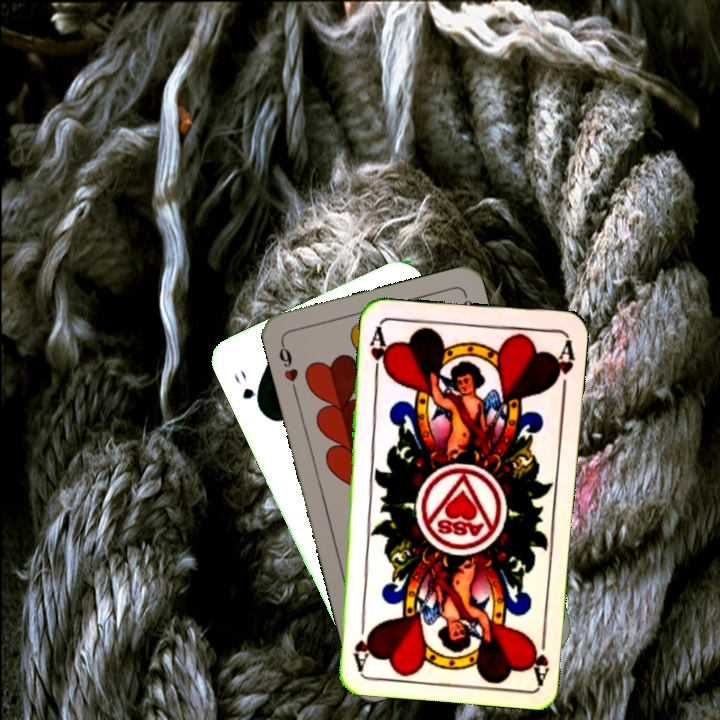GO: (229, 365, 265, 415)
H9: (274, 338, 301, 396)
HA: (365, 320, 392, 380), (525, 624, 552, 684)
